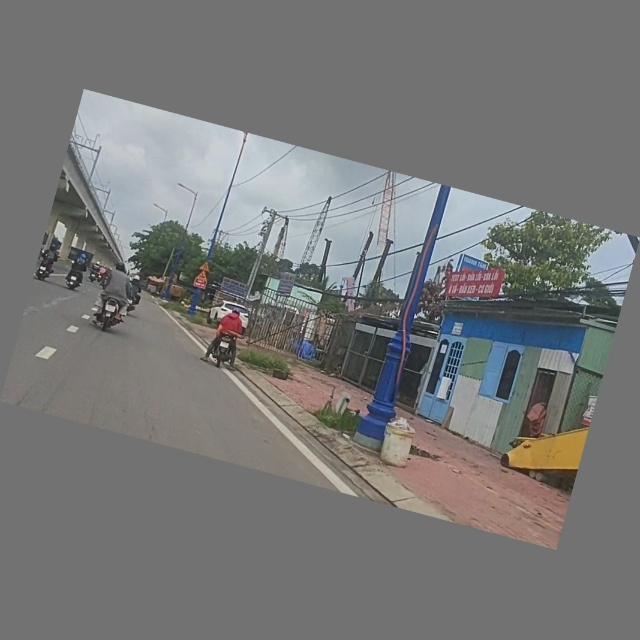W.203c: (198, 261, 212, 272)
W.245a: (196, 269, 211, 282)
